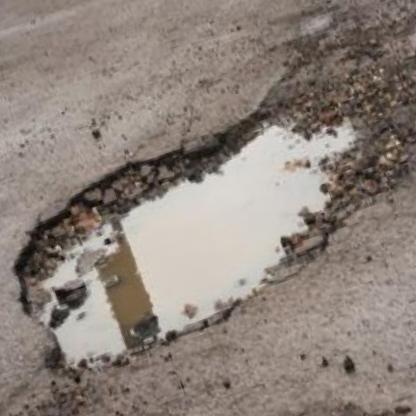pothole: (0, 94, 378, 372)
